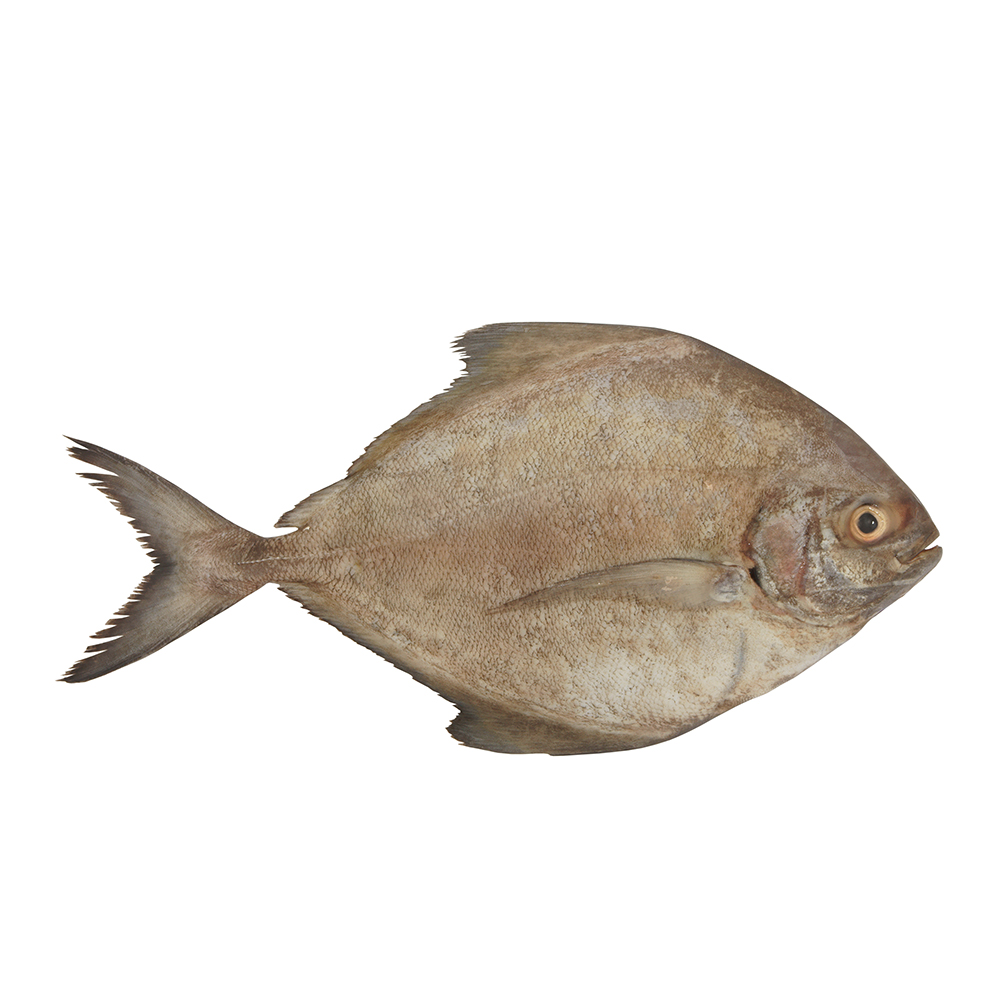Ikan Bawal: (42, 254, 973, 792)
